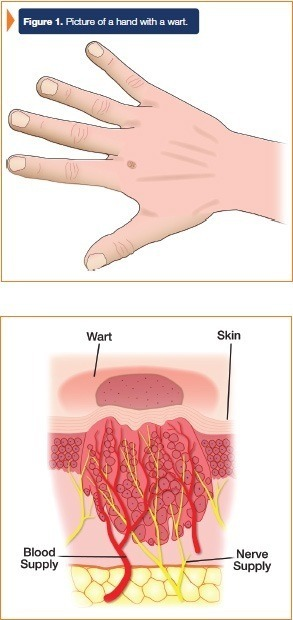Warts: (117, 146, 160, 186)
